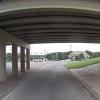Bridge: (3, 4, 95, 63)
